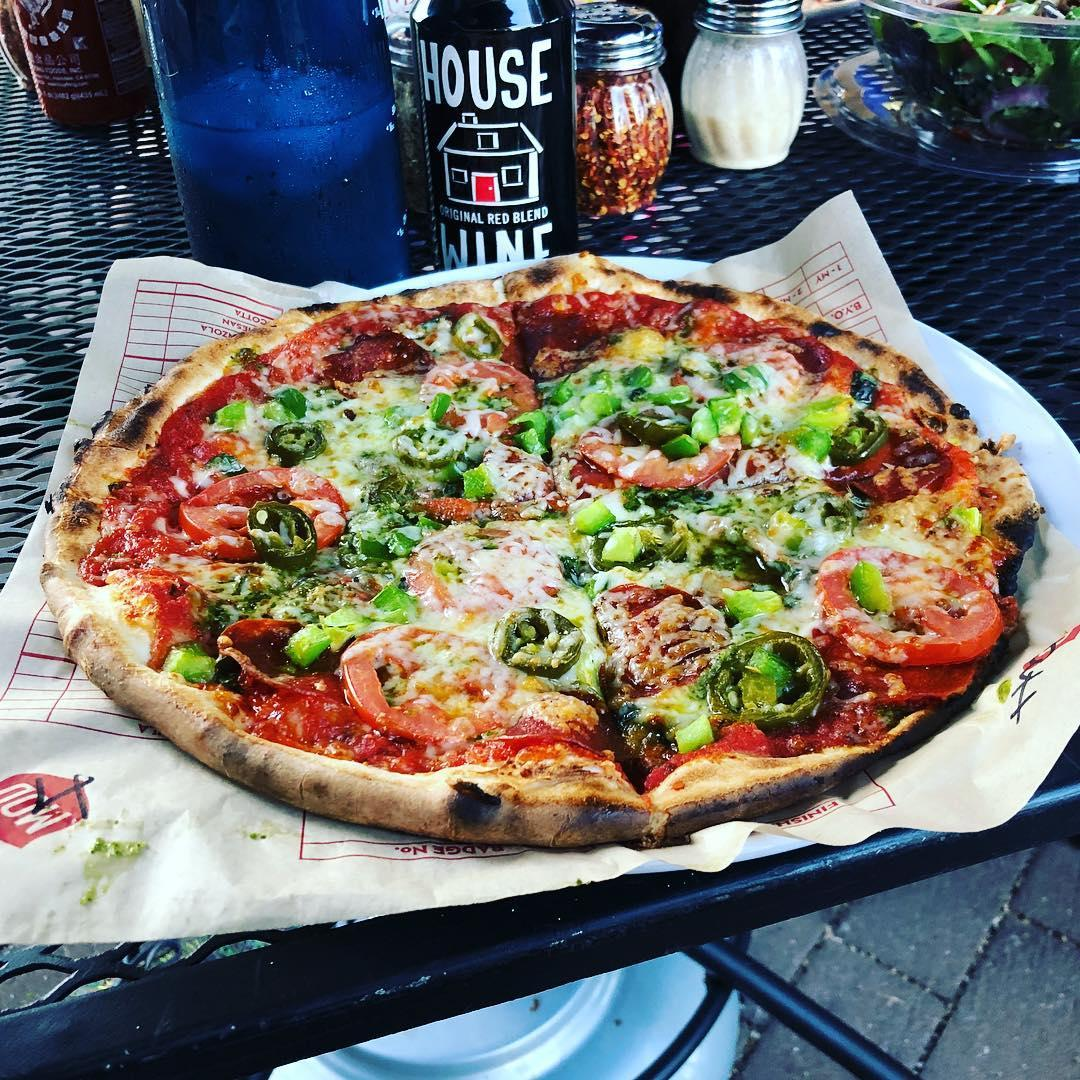Pepperoni: (591, 580, 721, 706), (213, 612, 353, 696), (841, 427, 958, 504), (256, 673, 362, 753), (497, 305, 614, 369), (319, 325, 435, 380)
Peppers: (707, 629, 830, 730), (491, 606, 584, 676), (342, 509, 449, 560), (243, 500, 322, 568), (717, 579, 793, 629), (842, 556, 901, 615), (657, 696, 720, 750), (824, 411, 885, 466), (264, 425, 332, 466), (166, 647, 218, 691), (453, 316, 505, 359), (601, 523, 647, 570), (563, 497, 620, 534), (362, 581, 421, 614), (284, 621, 333, 660), (813, 390, 856, 430), (269, 383, 309, 423), (703, 398, 747, 434), (792, 425, 833, 462), (461, 459, 496, 499), (205, 454, 252, 483), (659, 431, 707, 458), (206, 399, 250, 428), (690, 406, 724, 442), (738, 412, 771, 447), (508, 406, 553, 430), (656, 384, 696, 410), (580, 392, 615, 421), (510, 424, 541, 453), (620, 366, 651, 393), (589, 364, 615, 392), (544, 378, 575, 400), (424, 393, 447, 421), (434, 463, 461, 481)
Pizza: (38, 249, 1041, 855)
Tomatoes: (809, 545, 1008, 669), (339, 623, 519, 749), (175, 461, 354, 567), (410, 521, 566, 620), (568, 428, 743, 493), (414, 354, 543, 437)
